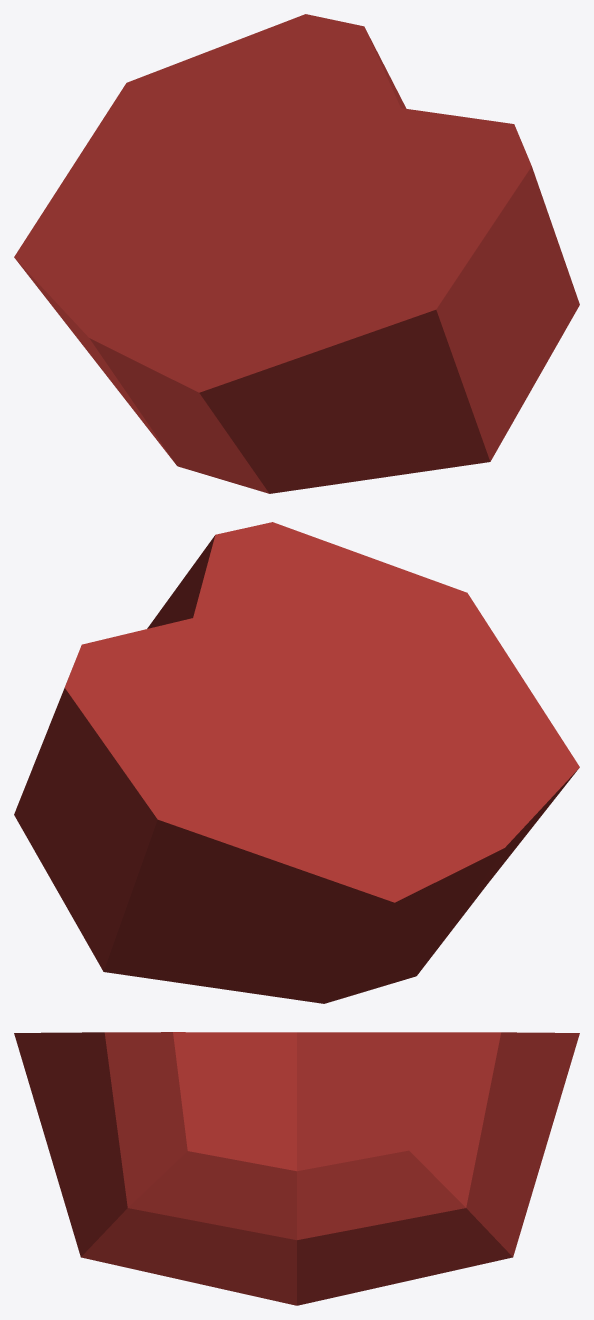
File: tomatoHalf.fbx
3 renders of one model, top to bottom at view 1: azimuth 30°, elevation 25°; view 2: azimuth 150°, elevation 25°; view 3: azimuth 270°, elevation 25°, orthographic. The views are drawn at different scales.
Visible parts, largest first — view 1: tomatoHalf; view 2: tomatoHalf; view 3: tomatoHalf.
Part boxes in pixels (x1,y1,x2,y2): tomatoHalf: (14, 14, 579, 493); tomatoHalf: (14, 522, 579, 1003); tomatoHalf: (14, 1032, 579, 1305).
Bounding box in the file's own units: 8.58 × 6.41 × 11.02.
1 material, 1 textured.
